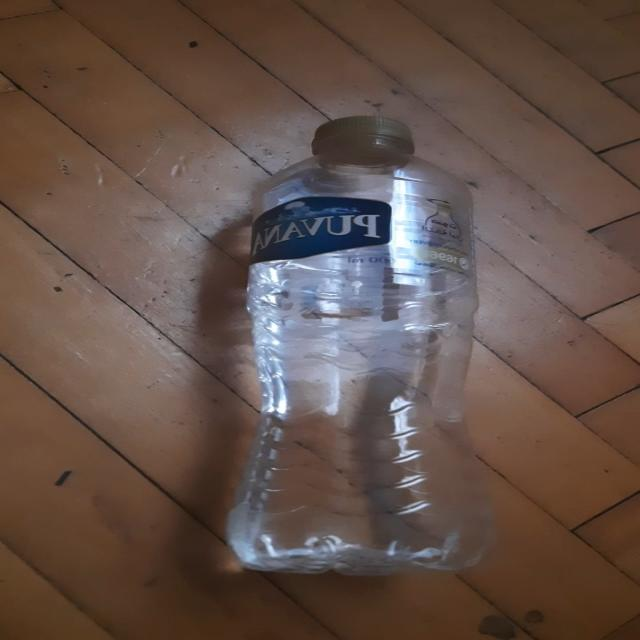Plastic: (225, 116, 497, 582)
